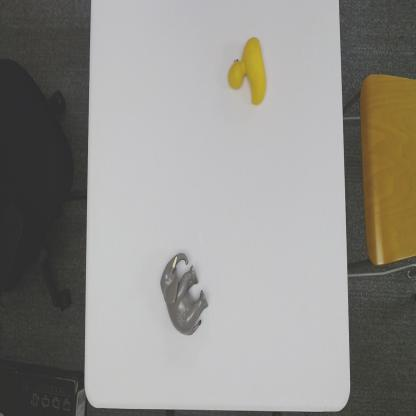Duck: (227, 35, 267, 108)
Elephant: (159, 250, 209, 338)
